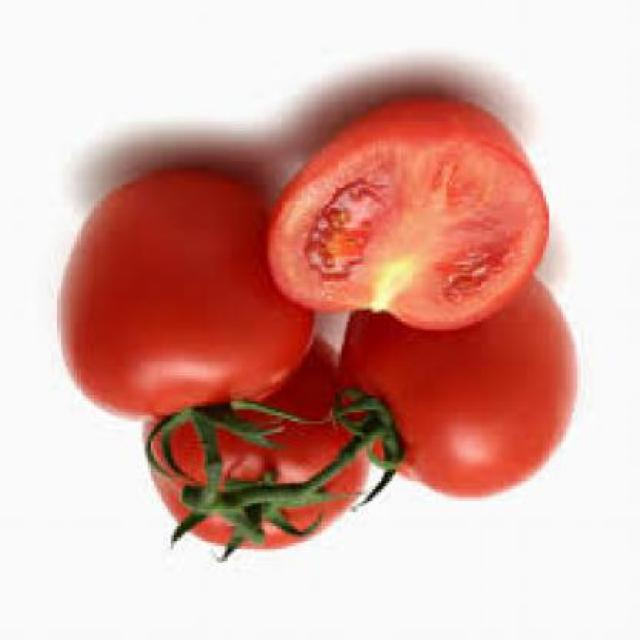BIODEGRADABLE: (269, 98, 549, 330), (61, 171, 312, 415), (341, 279, 575, 510), (146, 335, 368, 559)
